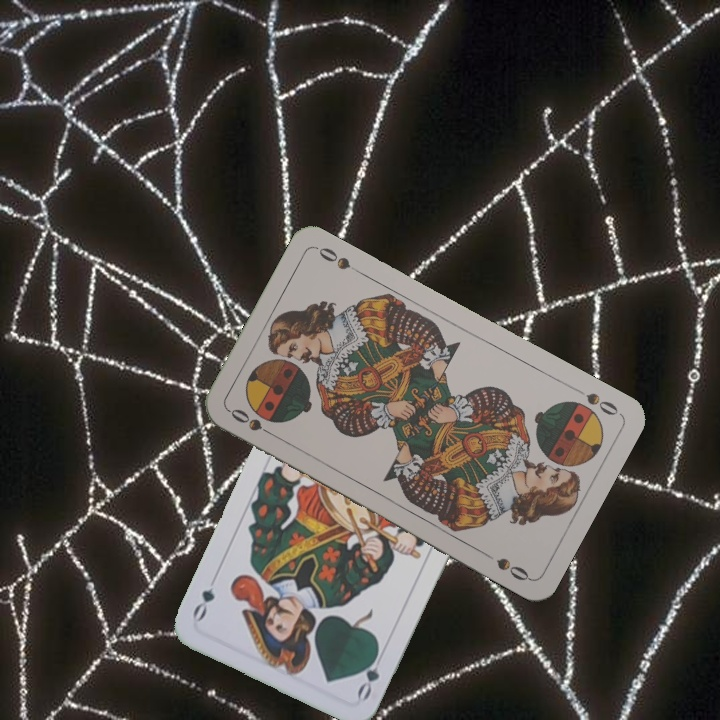GO: (353, 644, 388, 703)
SO: (225, 404, 280, 441), (569, 383, 621, 418)
